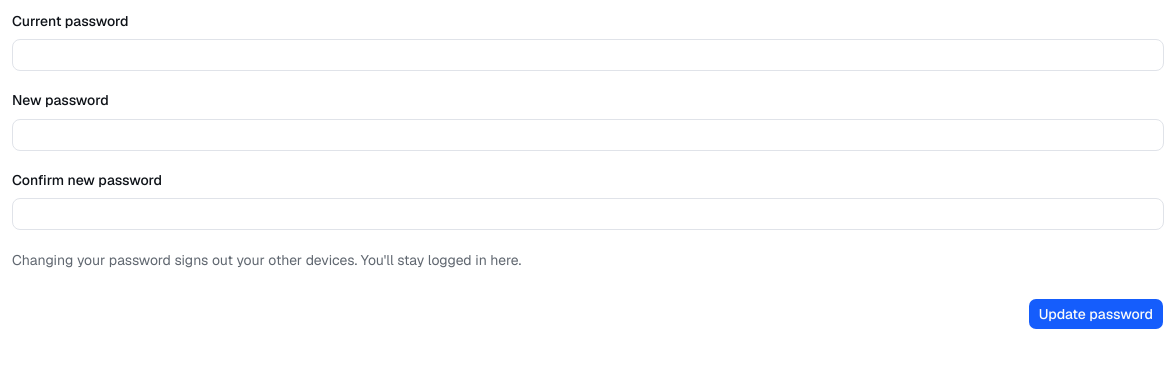
Test: ChangePasswordForm › shows an error when the confirmation does not match
Type "old-password" into the password field labelled "Current password" at (588, 55), box [12, 39, 1164, 71]
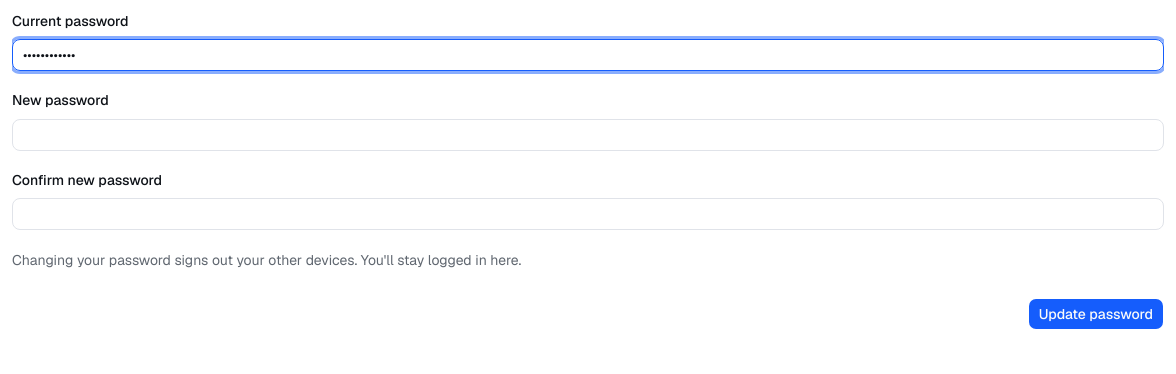
Type "brand-new-password" into the password field labelled "New password" at (588, 134), box [12, 118, 1164, 150]
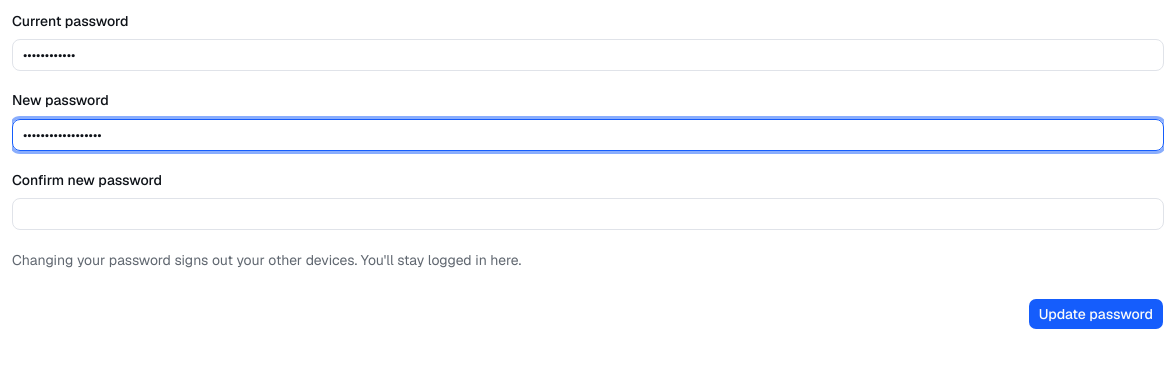
Type "different-password" into the password field labelled "Confirm new password" at (588, 214), box [12, 198, 1164, 230]
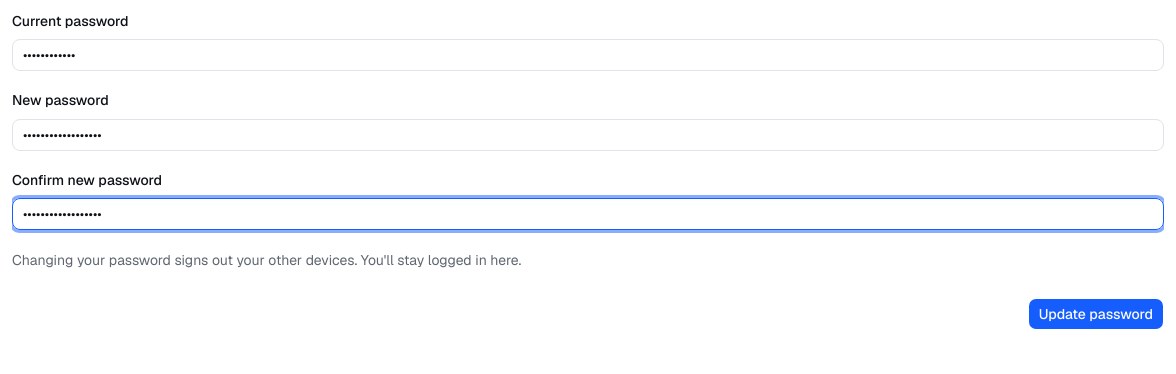
Click the button "Update password" at (1096, 314), box [1028, 298, 1164, 330]
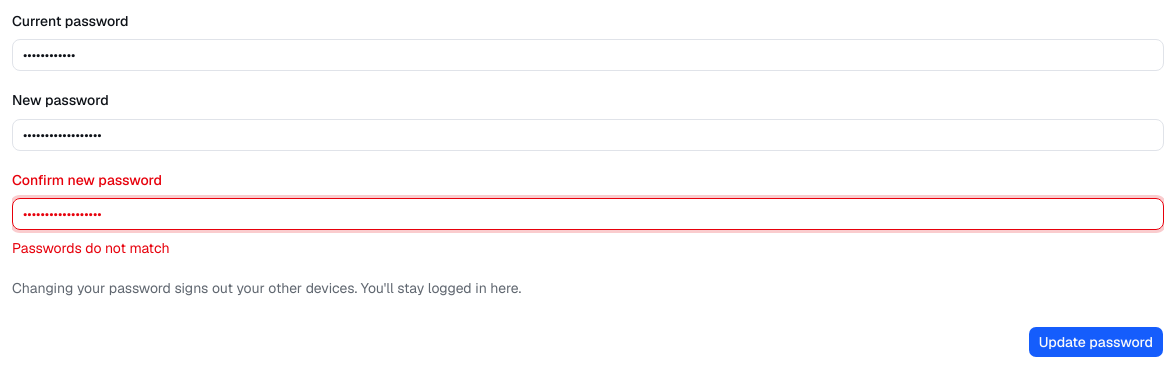
Expected: the text "Passwords do not match" is shown, [12, 239, 170, 257]
